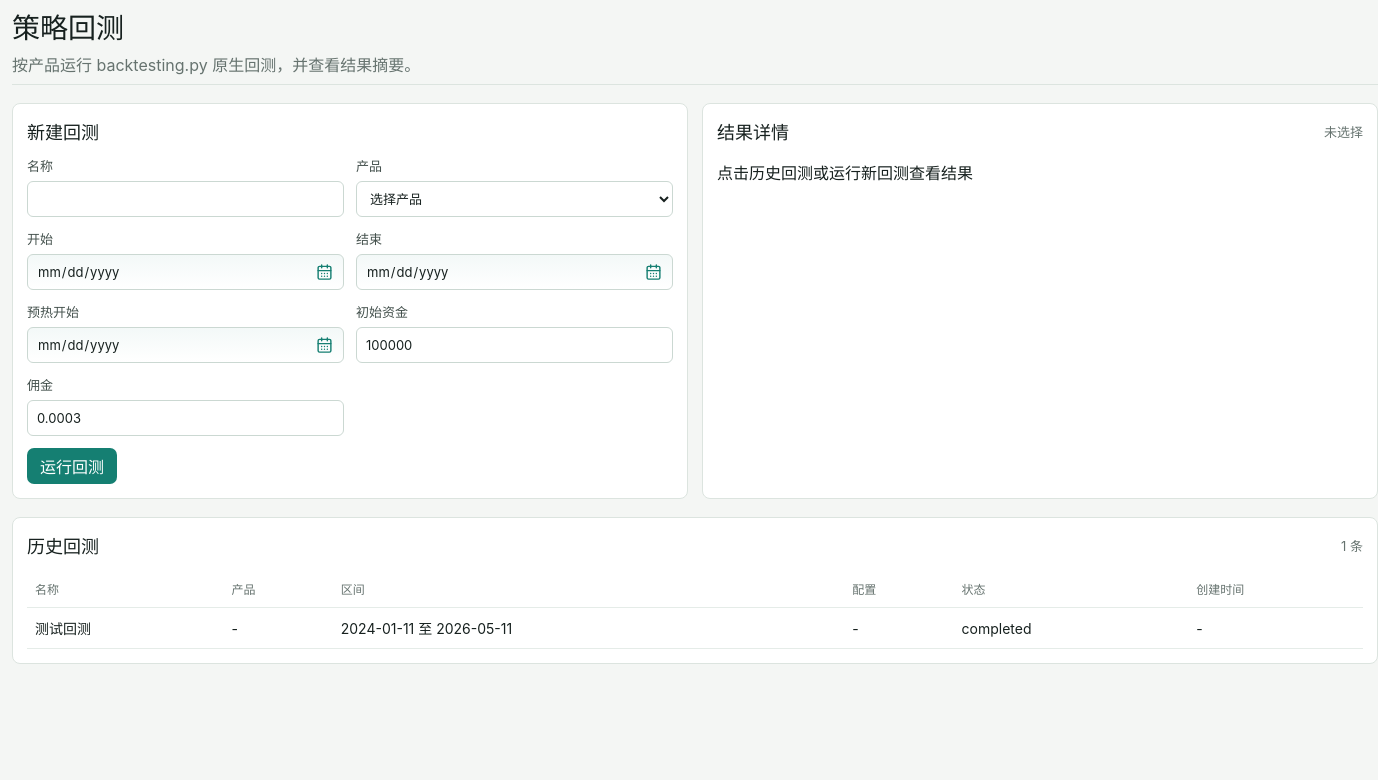
Test: create form buttons › renders backtest result as Chinese indicator cards instead of raw JSON
Click the text "测试回测".
click(125, 628)  # box [27, 608, 224, 649]
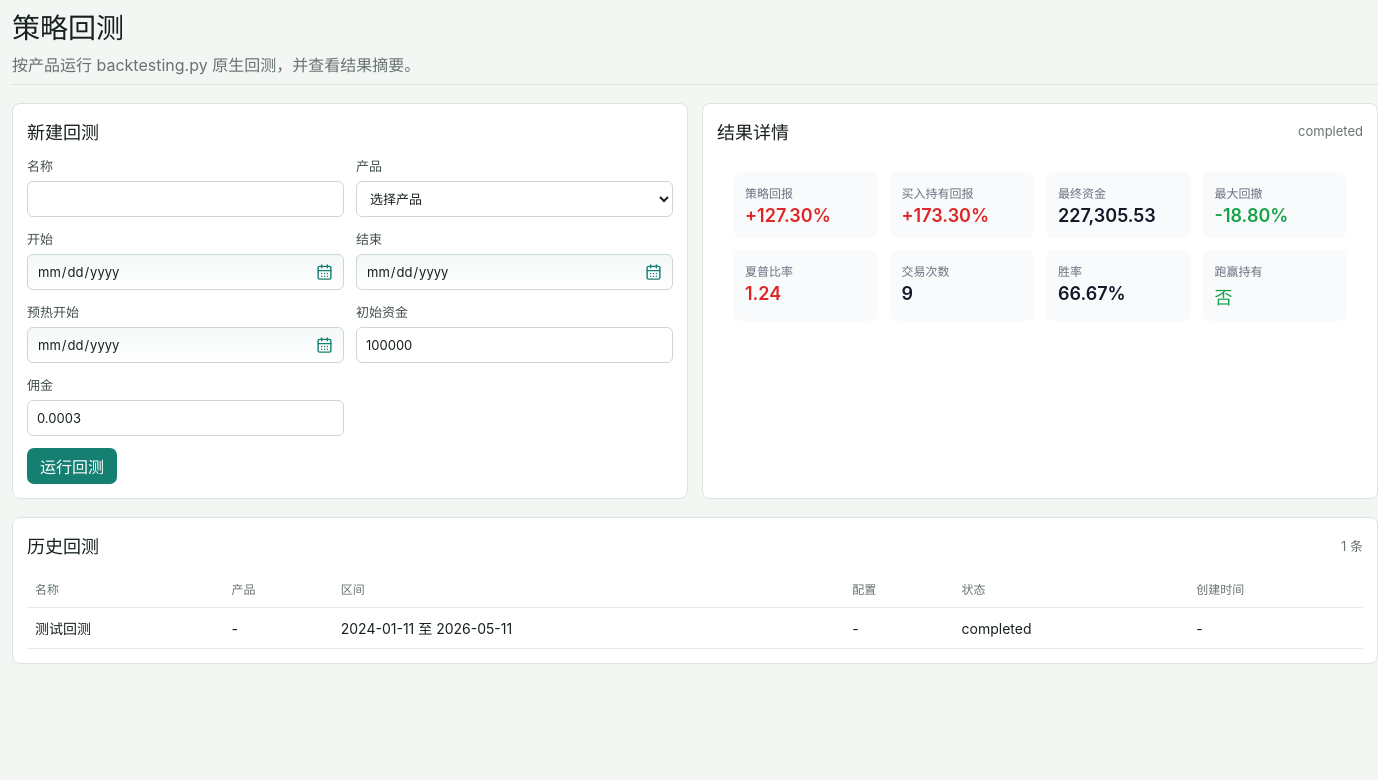
Expected: the text "策略回报" is shown, [745, 186, 793, 201]
Expected: the text "买入持有回报" is shown, [902, 186, 974, 201]
Expected: the text "最终资金" is shown, [1058, 186, 1106, 201]
